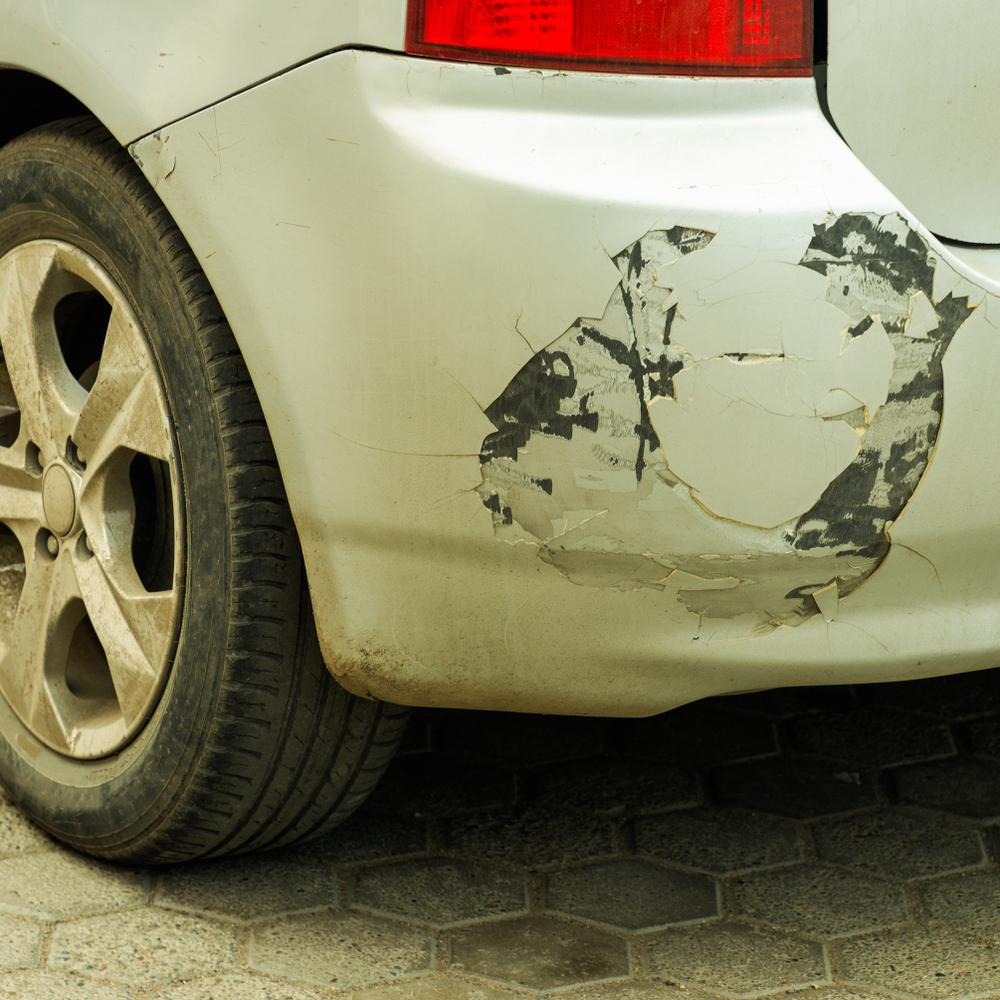scratch: (447, 207, 990, 639)
